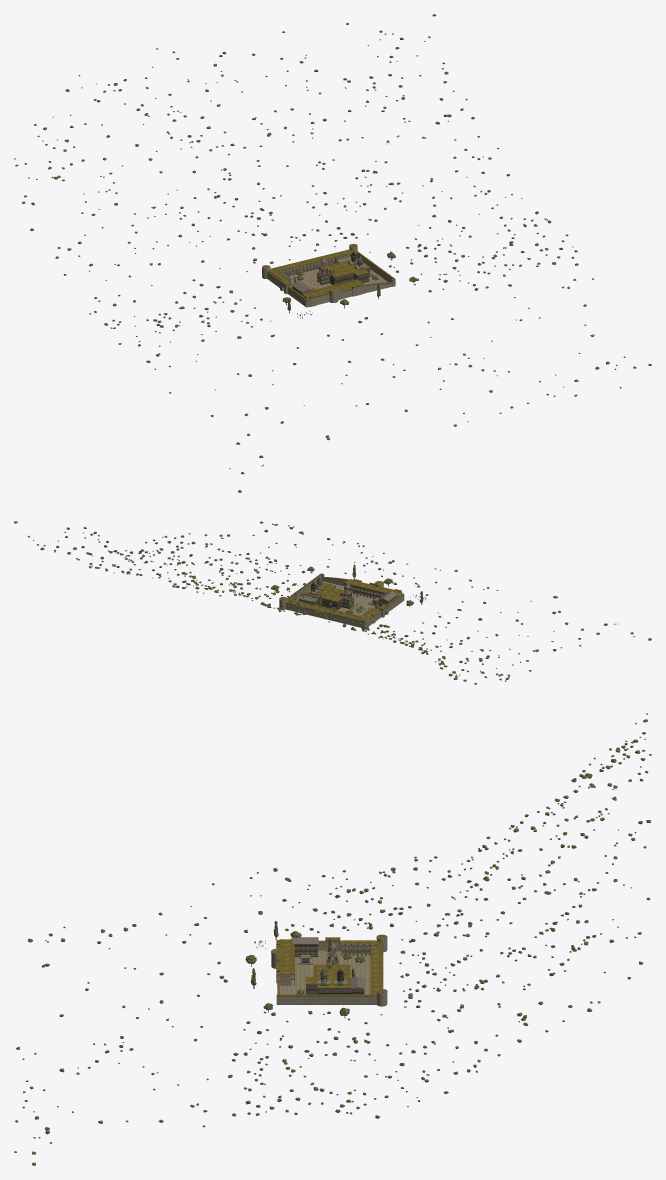
The model's file is glakavank.gltf.
3 renders of one model, top to bottom at view 1: azimuth 30°, elevation 25°; view 2: azimuth 150°, elevation 25°; view 3: azimuth 270°, elevation 25°, orthographic. The views are drawn at different scales.
Visible parts, largest first — view 1: leaf, earth, rubble, porch; view 2: leaf, earth, rubble, porch, ashlar, court, slate; view 3: leaf, earth, rubble, court, porch, ashlar.
Boxes of the visible parts, left/top/right/bottom form: leaf: left=14, top=14, right=651, bottom=492; earth: left=262, top=244, right=395, bottom=301; rubble: left=262, top=243, right=395, bottom=307; porch: left=274, top=252, right=370, bottom=295; leaf: left=14, top=521, right=651, bottom=684; earth: left=279, top=573, right=403, bottom=620; rubble: left=279, top=575, right=404, bottom=629; porch: left=287, top=582, right=397, bottom=618; ashlar: left=286, top=574, right=426, bottom=620; court: left=296, top=581, right=378, bottom=615; slate: left=298, top=577, right=397, bottom=601; leaf: left=14, top=713, right=651, bottom=1165; earth: left=271, top=935, right=386, bottom=996; rubble: left=271, top=934, right=387, bottom=1006; court: left=279, top=950, right=370, bottom=994; porch: left=291, top=943, right=378, bottom=994; ashlar: left=254, top=937, right=383, bottom=996.
Bounding box in the file's own units: 523 × 258 × 518.
Materials: 15 (8 with a texture image).
